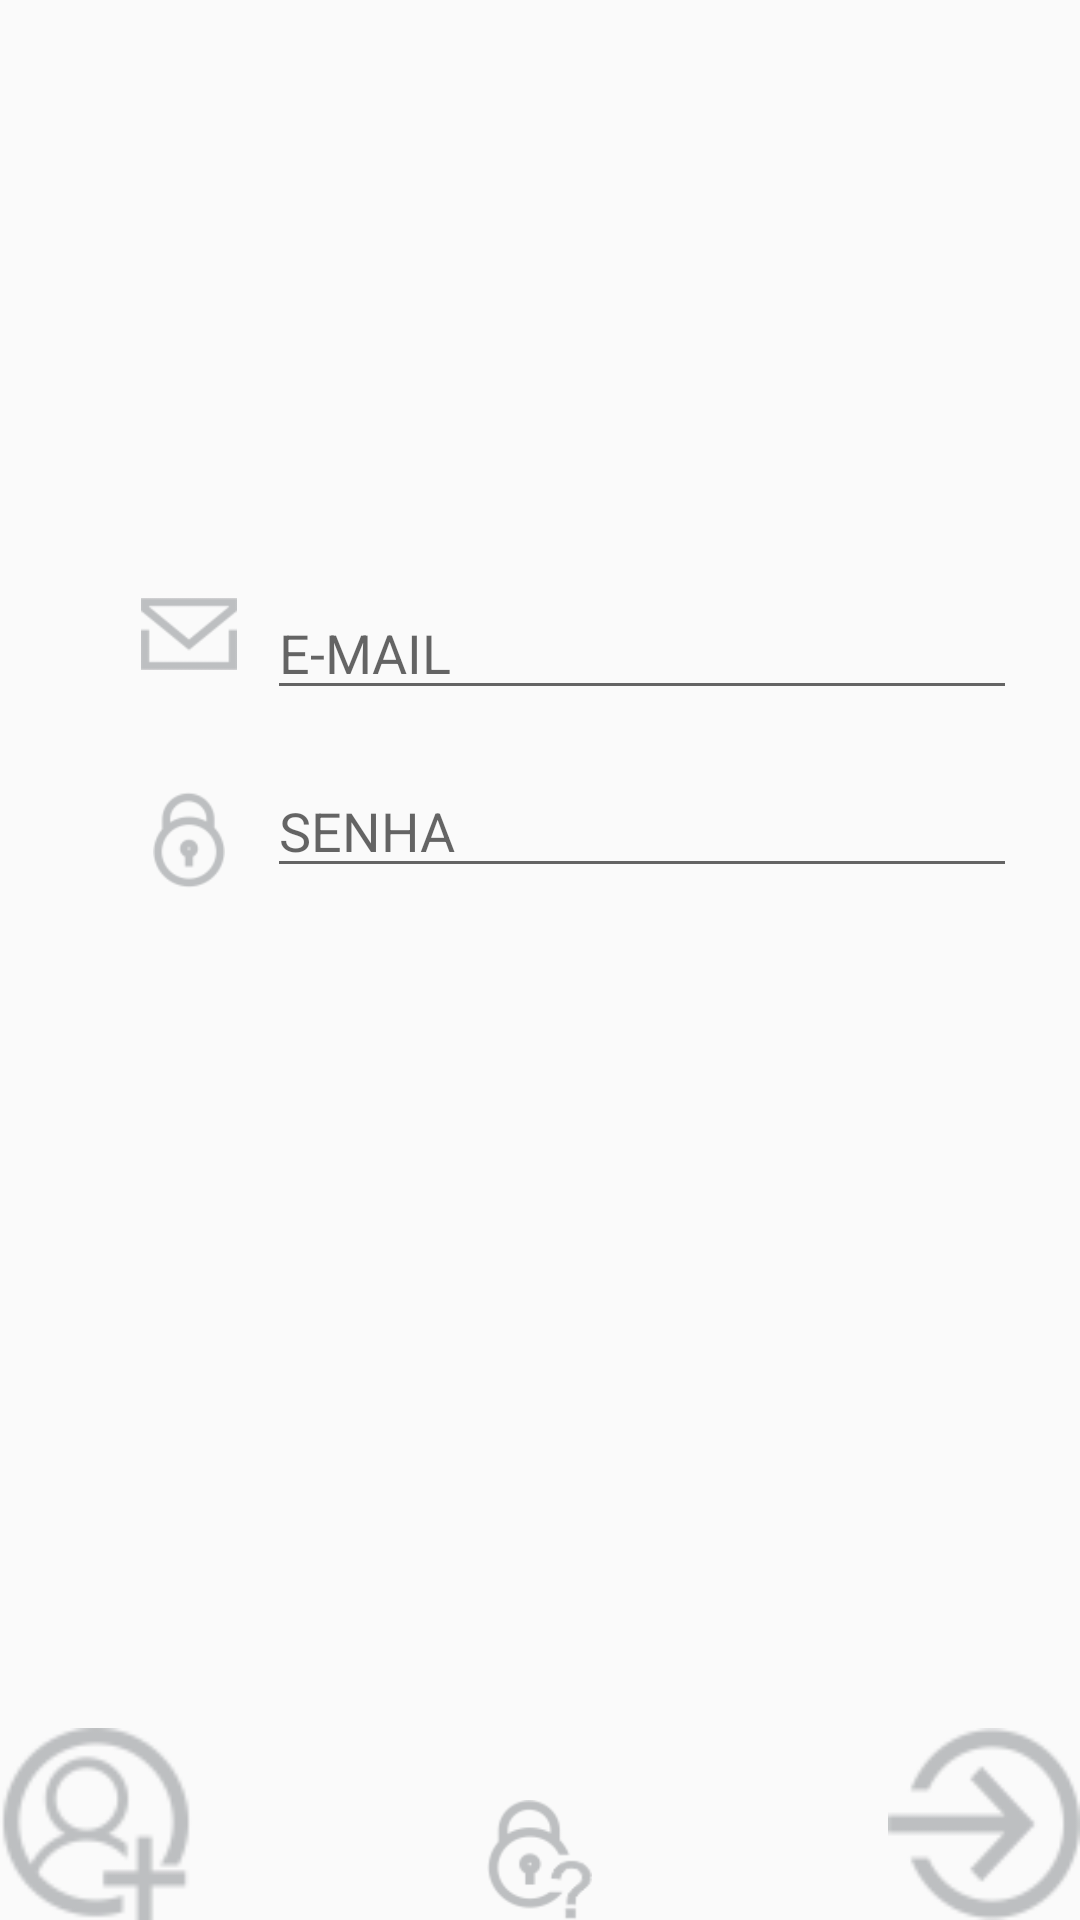

Screen size 1080w x 1920h. Icon name, then its center in pixels as (x,y):
login: (984,1824)
usuario: (96,1824)
